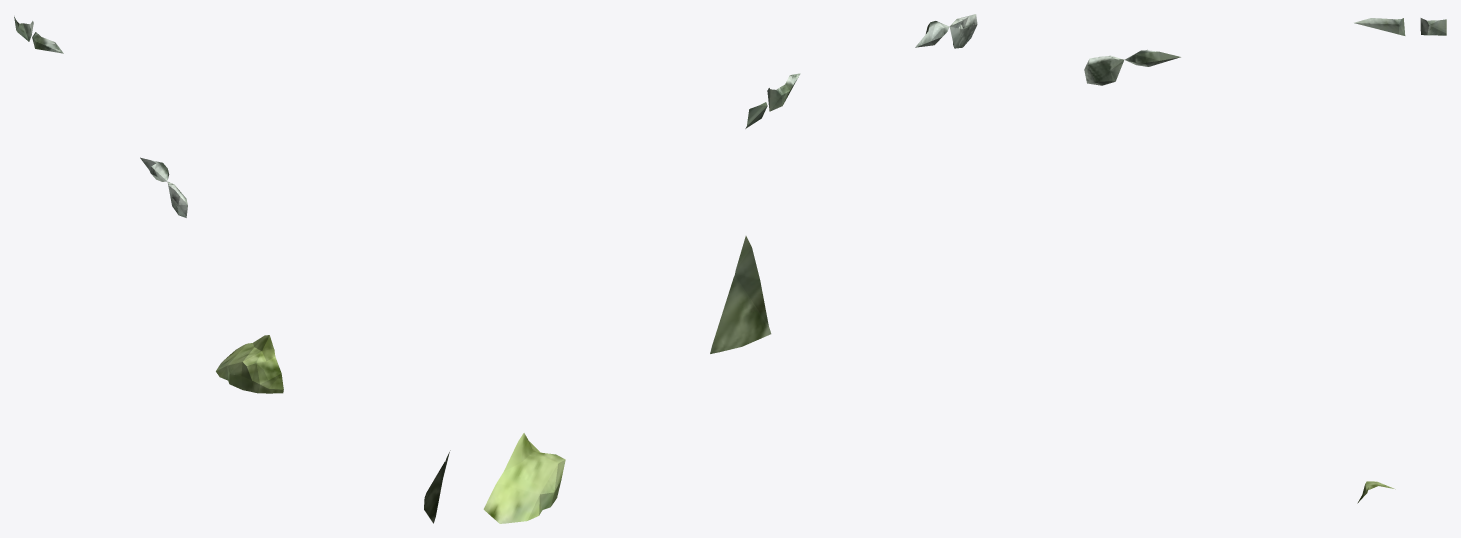
3 views of the same model, side by side, from view 1: azimuth 30°, elevation 25°; view 2: azimuth 150°, elevation 25°; view 3: azimuth 270°, elevation 25° (orthographic). The views are drawn at different scales.
Bounding box in the file's own units: 3.67 × 5.9 × 5.9.
Materials: 1 (1 with a texture image).
